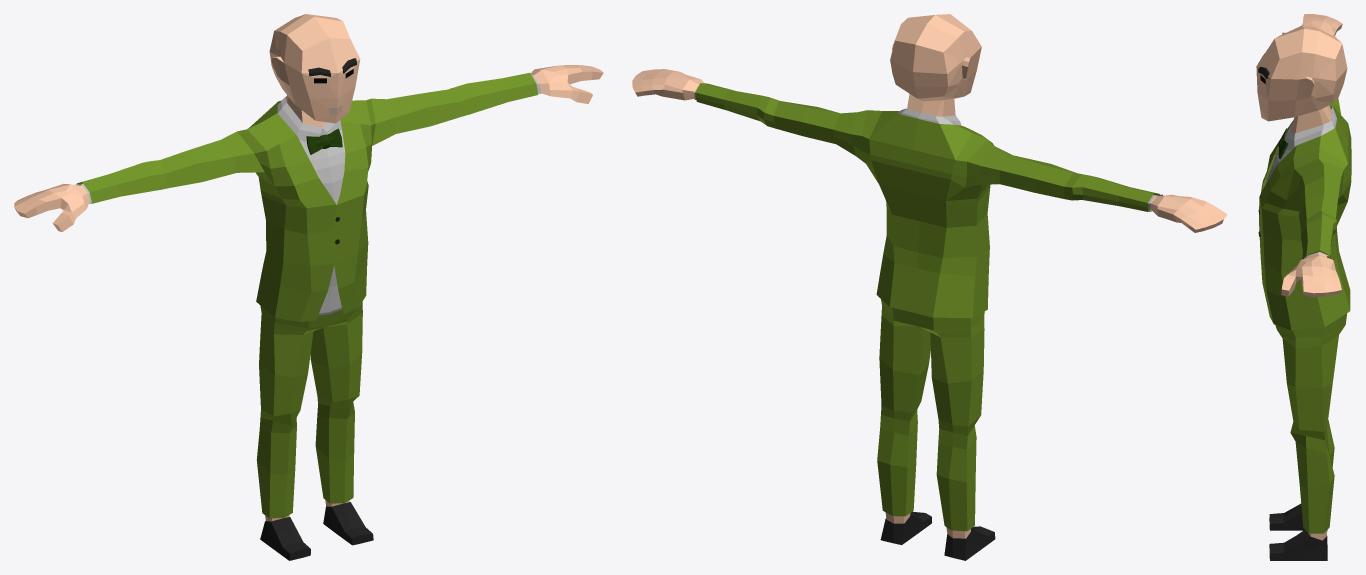
The model's file is NPC_VerdeCaca_Escenario2_Pajarita.fbx.
The picture shows the model from 3 angles, left to right: view 1: azimuth 30°, elevation 25°; view 2: azimuth 150°, elevation 25°; view 3: azimuth 270°, elevation 25°; orthographic projection. The views are drawn at different scales.
Visible parts, largest first — view 1: Personaje; view 2: Personaje; view 3: Personaje.
Boxes of the visible parts, x1,y1,x2,y2 form: Personaje: (14, 14, 603, 560); Personaje: (632, 14, 1227, 560); Personaje: (1256, 14, 1351, 560).
Bounding box in the file's own units: 215 × 184 × 30.94.
